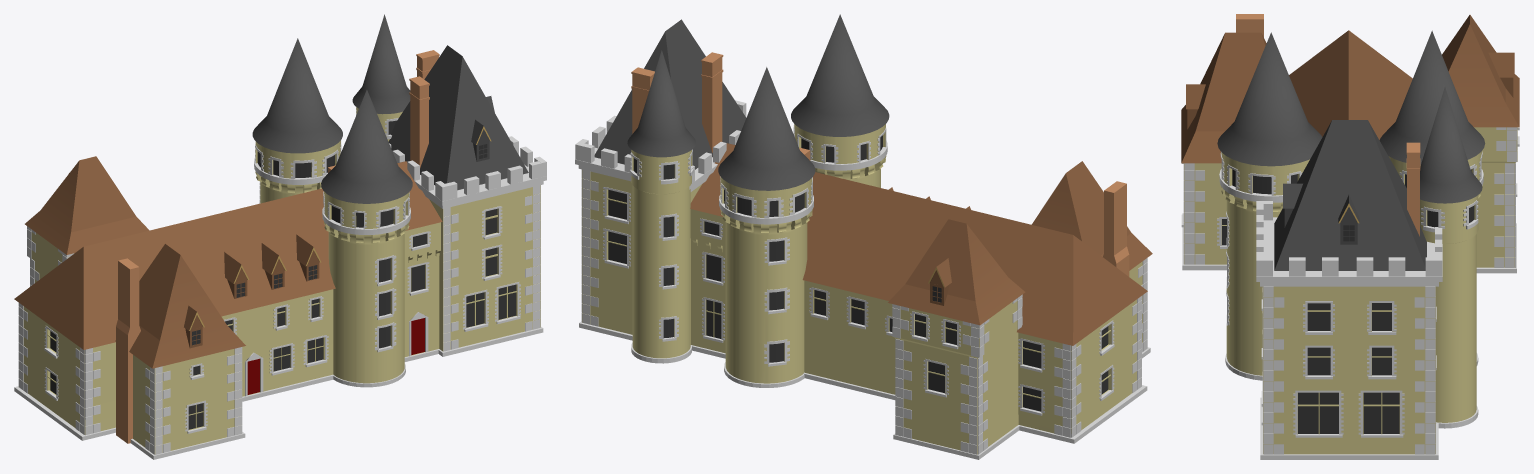
File: castle.glb
The picture shows the model from 3 angles, left to right: view 1: azimuth 30°, elevation 25°; view 2: azimuth 150°, elevation 25°; view 3: azimuth 270°, elevation 25°; orthographic projection. The views are drawn at different scales.
Parts seen in each view (by area): view 1: Cylinder001, Box001, Cylinder005, Box004, Cylinder004, Box002, Cylinder002, Cylinder003, Cone002, Cone001, Box005, Box008 (+5 smaller); view 2: Cylinder001, Box001, Cylinder006, Box007, Cylinder007, Box004, Cylinder003, Cone002, Cone001, Cylinder004, Box005, Cylinder002 (+6 smaller); view 3: Box004, Cylinder004, Cylinder007, Cylinder005, Cylinder001, Cone002, Cylinder002, Cone001, Cylinder003, Cone003, Box007, Box002 (+11 smaller).
Boxes of the visible parts, <box> form: Cylinder001: <box>14,188,335,349</box>; Box001: <box>14,289,334,440</box>; Cylinder005: <box>322,191,410,387</box>; Box004: <box>414,156,546,356</box>; Cylinder004: <box>388,45,528,190</box>; Box002: <box>115,349,245,459</box>; Cylinder002: <box>115,244,245,368</box>; Cylinder003: <box>25,156,149,254</box>; Cone002: <box>321,90,412,203</box>; Cone001: <box>252,38,342,153</box>; Box005: <box>404,222,440,361</box>; Box008: <box>116,258,140,443</box>; Cylinder001: <box>802,172,1147,345</box>; Box001: <box>803,280,1147,443</box>; Cylinder006: <box>719,176,813,387</box>; Box007: <box>893,300,1019,459</box>; Cylinder007: <box>630,149,693,363</box>; Box004: <box>575,147,717,344</box>; Cylinder003: <box>888,219,1025,325</box>; Cone002: <box>791,14,889,136</box>; Cone001: <box>718,67,815,190</box>; Cylinder004: <box>594,19,746,169</box>; Box005: <box>690,209,725,358</box>; Cylinder002: <box>1031,161,1152,270</box>; Box004: <box>1256,217,1442,459</box>; Cylinder004: <box>1274,120,1426,270</box>; Cylinder007: <box>1420,195,1478,428</box>; Cylinder005: <box>1219,152,1309,380</box>; Cylinder001: <box>1289,30,1412,139</box>; Cone002: <box>1217,32,1322,166</box>; Cylinder002: <box>1181,32,1266,163</box>; Cone001: <box>1379,30,1485,165</box>; Cylinder003: <box>1442,15,1519,127</box>; Cone003: <box>1420,87,1482,203</box>; Box007: <box>1474,127,1517,273</box>; Box002: <box>1182,163,1226,270</box>.
Bounding box in the file's own units: 6.52 × 3.84 × 3.55.
